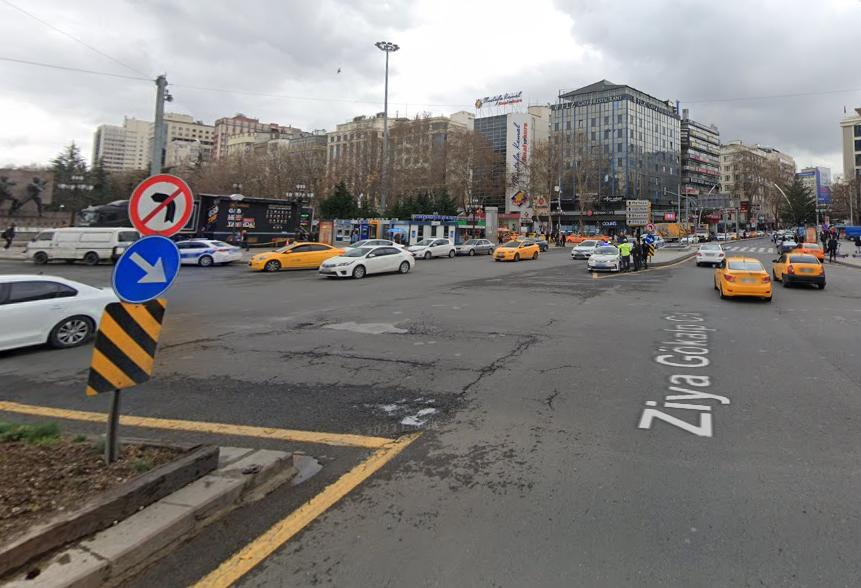leftturnsareforbidden: (130, 175, 191, 237)
